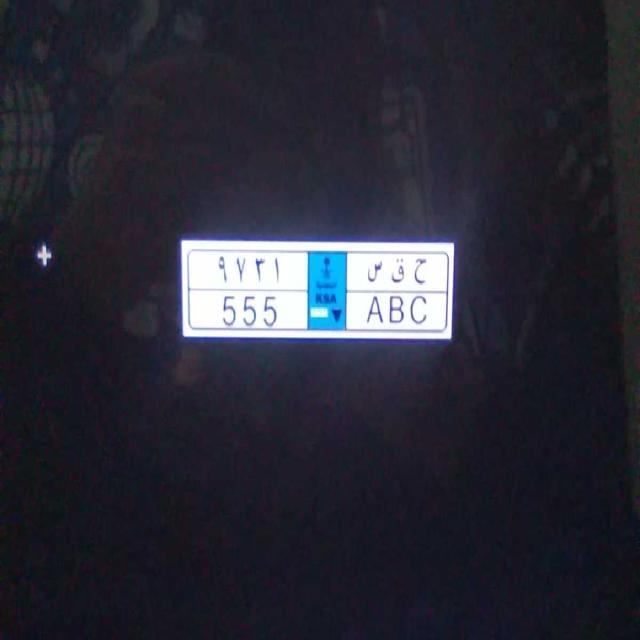license_plate: (209, 286, 438, 338)
